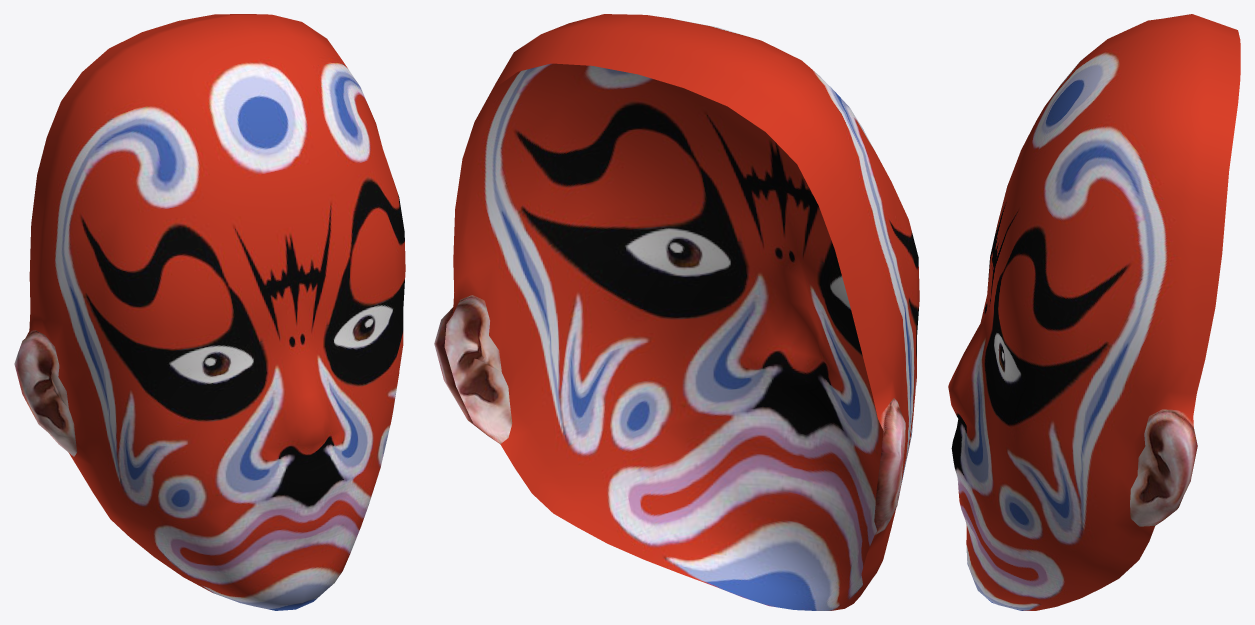
File: lianpu.glb
3 renders of one model, left to right at view 1: azimuth 30°, elevation 25°; view 2: azimuth 150°, elevation 25°; view 3: azimuth 270°, elevation 25°, orthographic. The views are drawn at different scales.
Parts seen in each view (by area): view 1: Box086; view 2: Box086; view 3: Box086.
Boxes of the visible parts, bbox=[...] form: Box086: bbox=[14, 14, 405, 610]; Box086: bbox=[434, 14, 919, 610]; Box086: bbox=[948, 14, 1240, 610].
Bounding box in the file's own units: 0.3304 × 0.4378 × 0.2083.
Materials: 1 (1 with a texture image).
